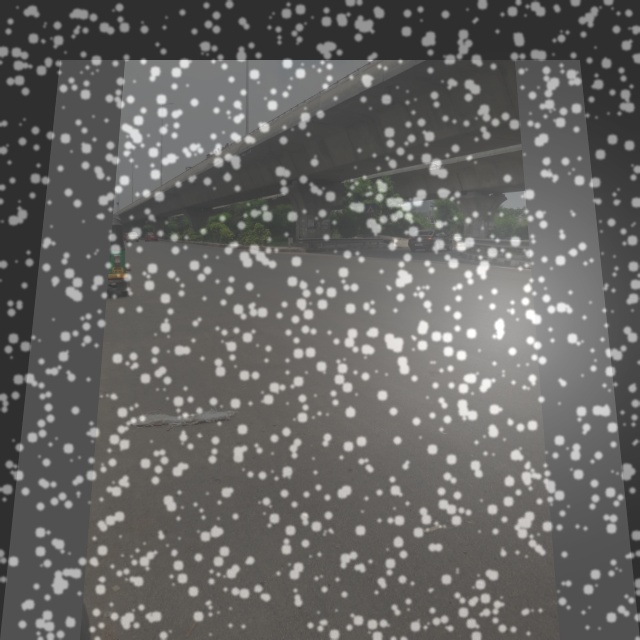Pedestrian_Crossing: (361, 200, 375, 214)
